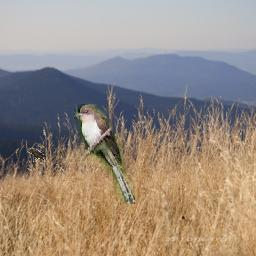Crow: (26, 148, 46, 163)
Cuckoo: (75, 104, 136, 204)
